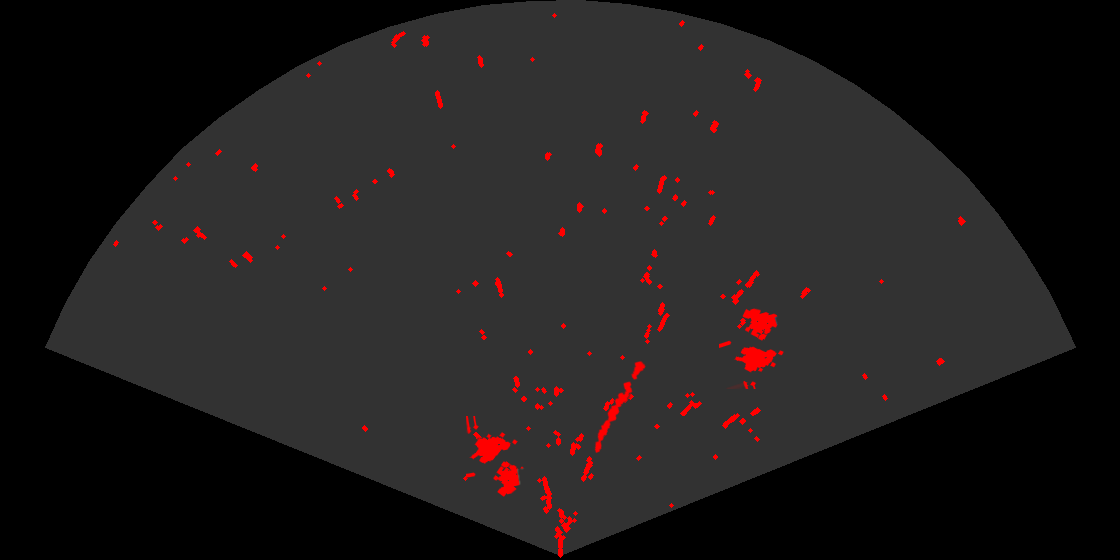cage: (719, 307, 785, 389), (466, 416, 525, 498)
chain: (593, 359, 647, 455)
